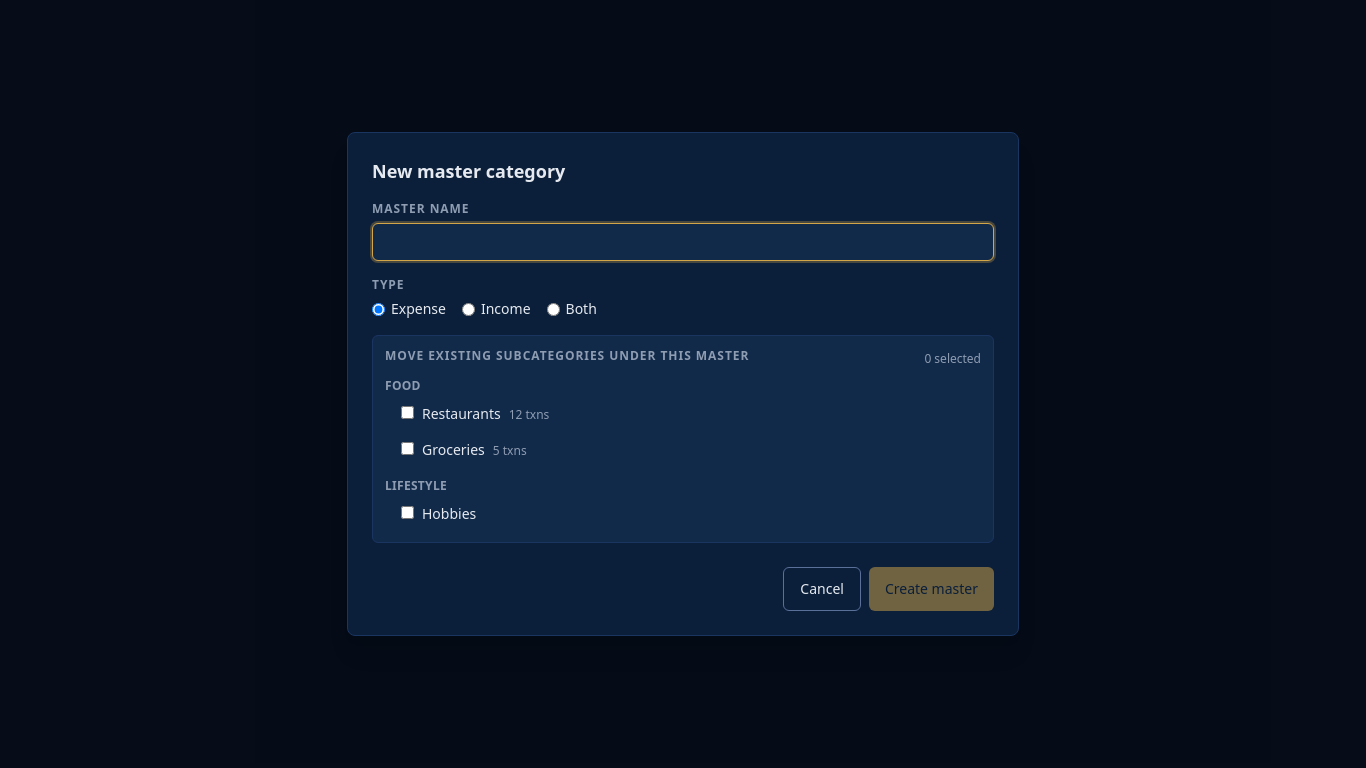
it: AddMasterWithSubsModal › opens a confirm dialog when one or more subs are selected
The width and height of the screenshot is (1366, 768).
Type "Dining out" into the field labelled "Master name" at point(683, 242), box [372, 223, 994, 261]
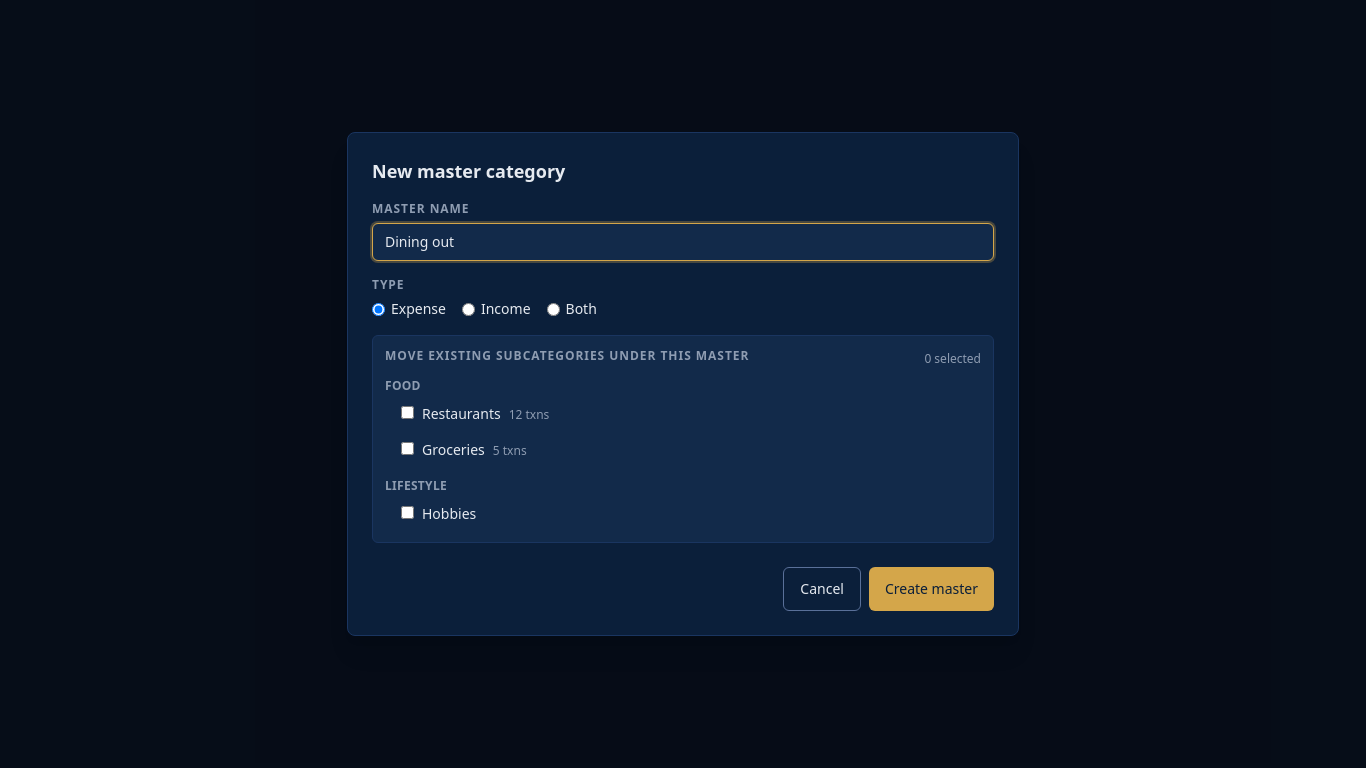
Click the checkbox named "Move subcategory Restaurants under new master" at point(408, 412), box [401, 406, 414, 419]
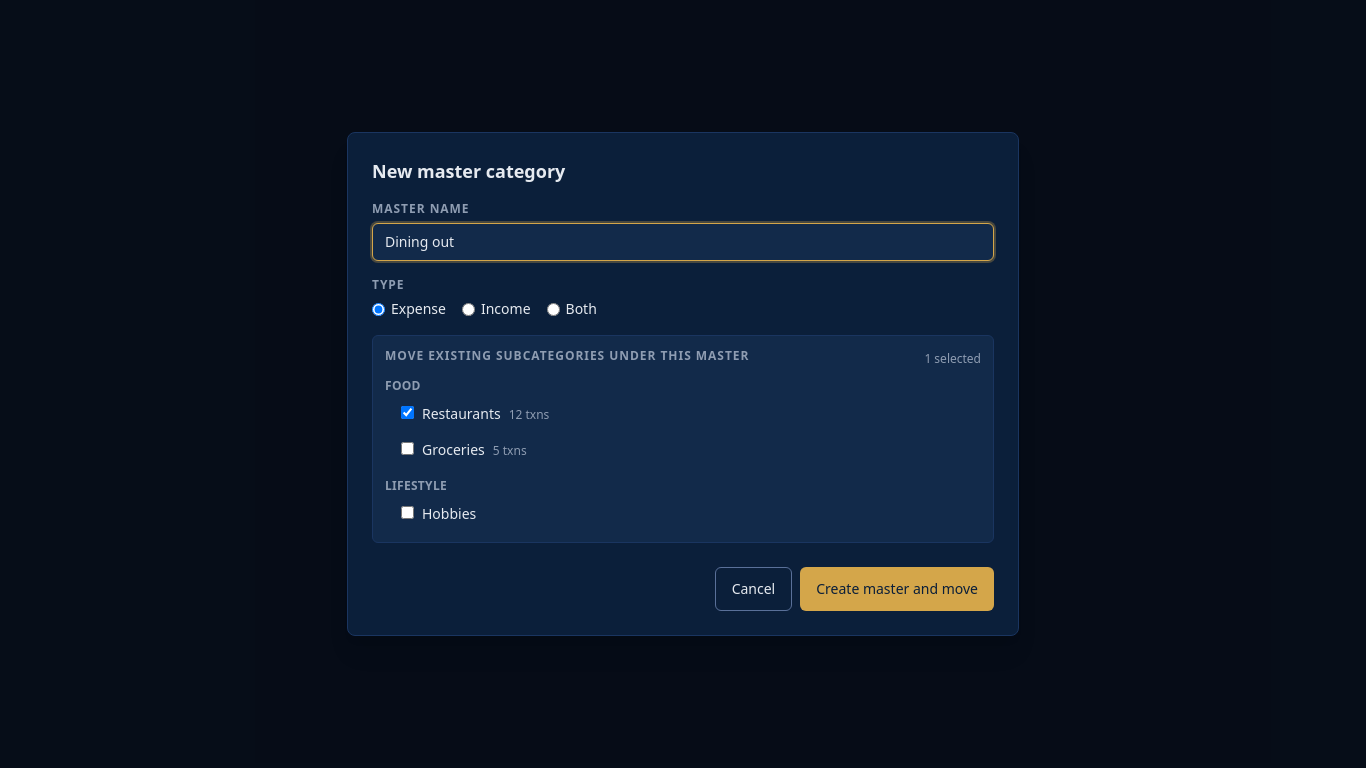
Click the button "Create master and move" at point(897, 589), box [800, 567, 994, 611]
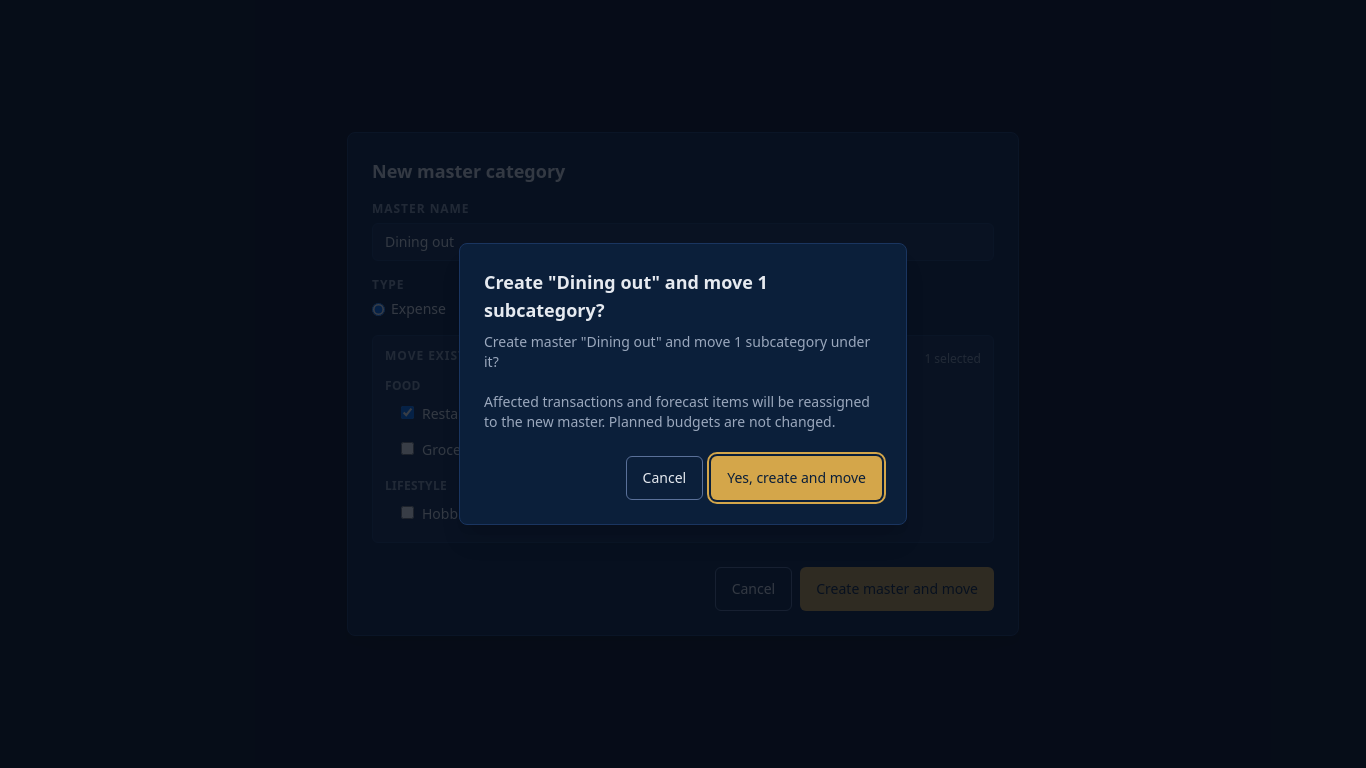
Expected: the heading "Create \"Dining out\" and move 1 subcategory?" is shown, [484, 270, 768, 322]
Expected: the text "Affected transactions and forecast items" is shown, [484, 332, 870, 431]
